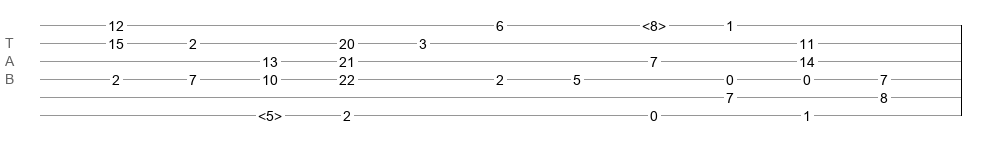0: (650, 108, 658, 118), (726, 72, 734, 82), (803, 72, 811, 82)
1: (726, 18, 734, 28), (803, 108, 811, 118)
10: (262, 72, 278, 82)
11: (799, 36, 815, 46)
12: (108, 18, 124, 28)
13: (262, 54, 278, 64)
14: (799, 54, 815, 64)
15: (108, 36, 124, 46)
2: (112, 72, 120, 82), (189, 36, 197, 46), (343, 108, 351, 118), (496, 72, 504, 82)
20: (339, 36, 355, 46)
21: (339, 54, 355, 64)
22: (339, 72, 355, 82)
3: (419, 36, 427, 46)
5: (573, 72, 581, 82)
6: (496, 18, 504, 28)
7: (189, 72, 197, 82), (650, 54, 658, 64), (726, 90, 734, 100), (880, 72, 888, 82)
8: (880, 90, 888, 100)
harmonic: (258, 108, 282, 118), (642, 18, 666, 28)
